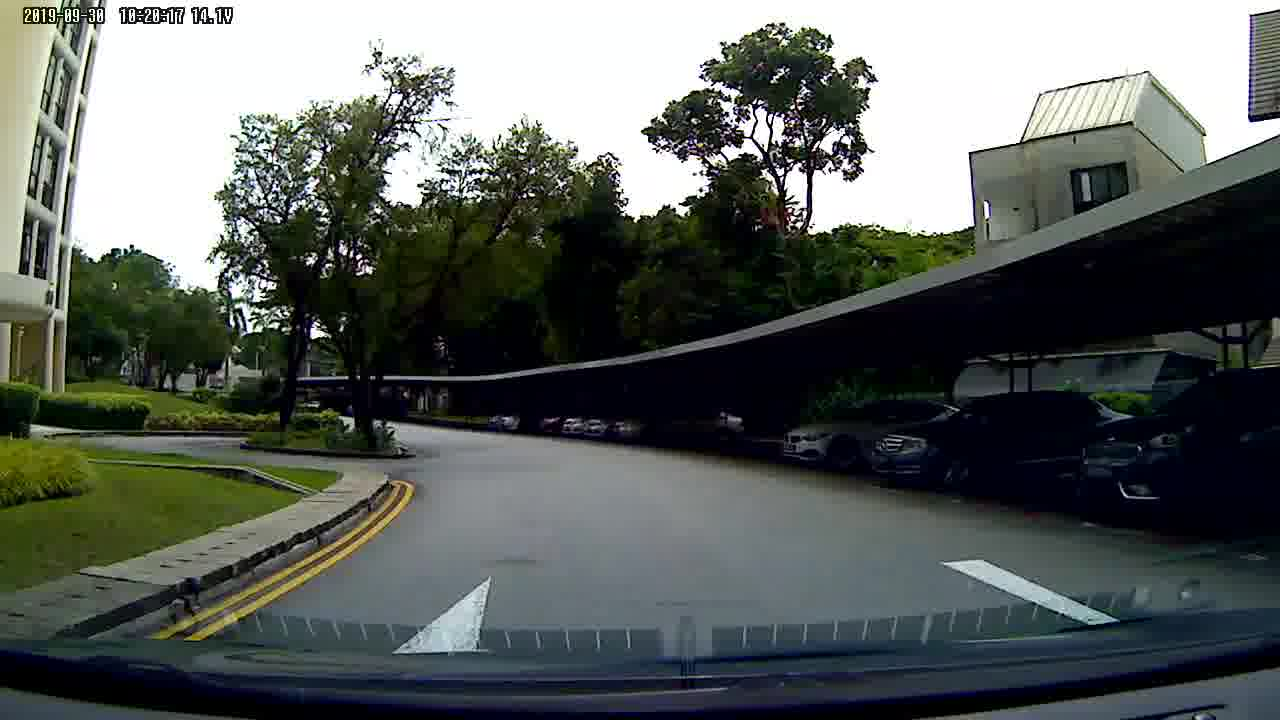car: (1066, 361, 1280, 524), (874, 388, 1073, 500), (782, 395, 872, 466)
